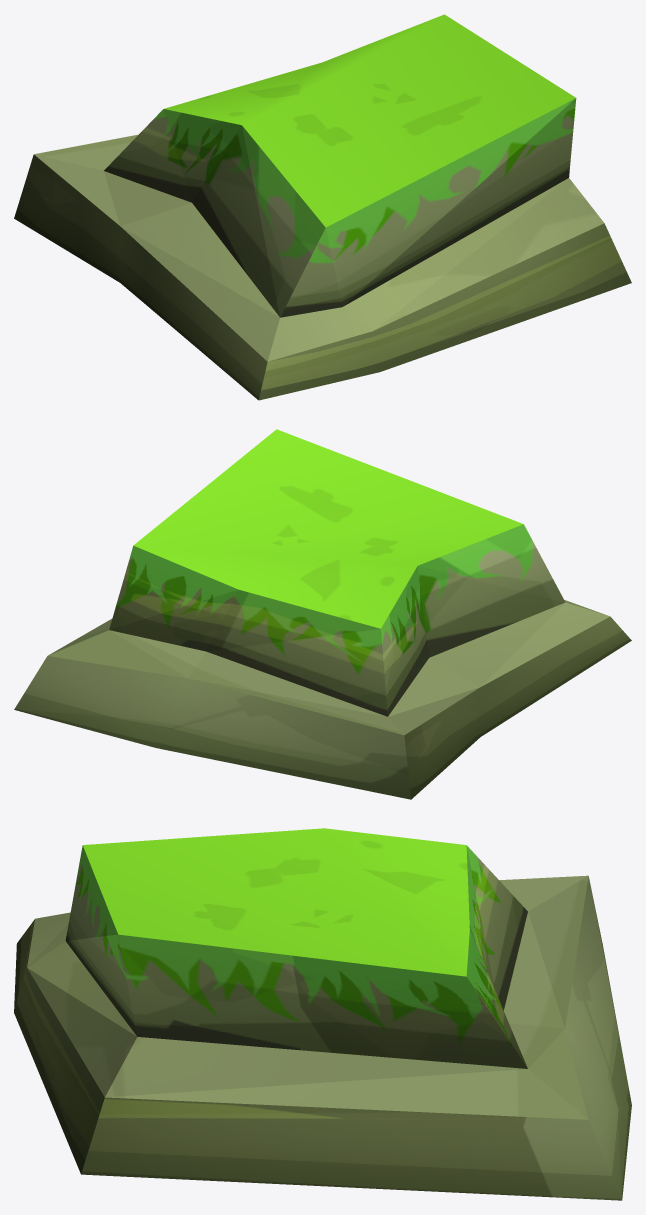
File: F_W_O_rock_021.fbx
3 views of the same model, one above another, from view 1: azimuth 30°, elevation 25°; view 2: azimuth 150°, elevation 25°; view 3: azimuth 270°, elevation 25° (orthographic). The views are drawn at different scales.
Visible parts, largest first — view 1: F_W_O_rock_021; view 2: F_W_O_rock_021; view 3: F_W_O_rock_021.
Boxes of the visible parts, x1,y1,x2,y2 form: F_W_O_rock_021: (14,14,631,400); F_W_O_rock_021: (14,429,631,799); F_W_O_rock_021: (14,828,631,1200).
Size of the model in its own units: 4.46 by 1.75 by 4.53.
